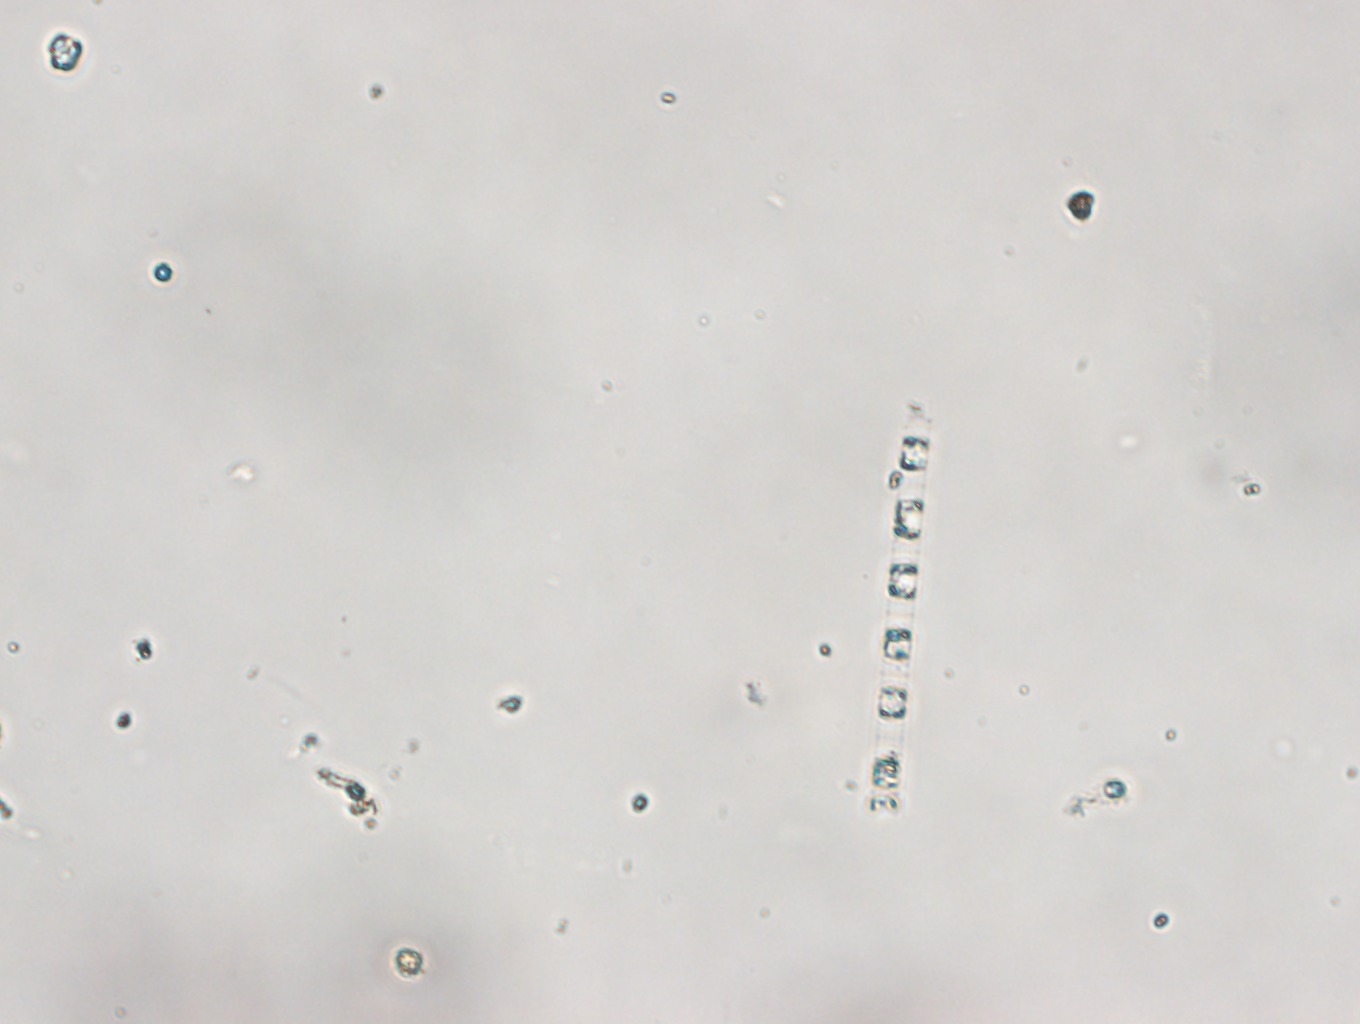skeletonema: (864, 400, 944, 830)
